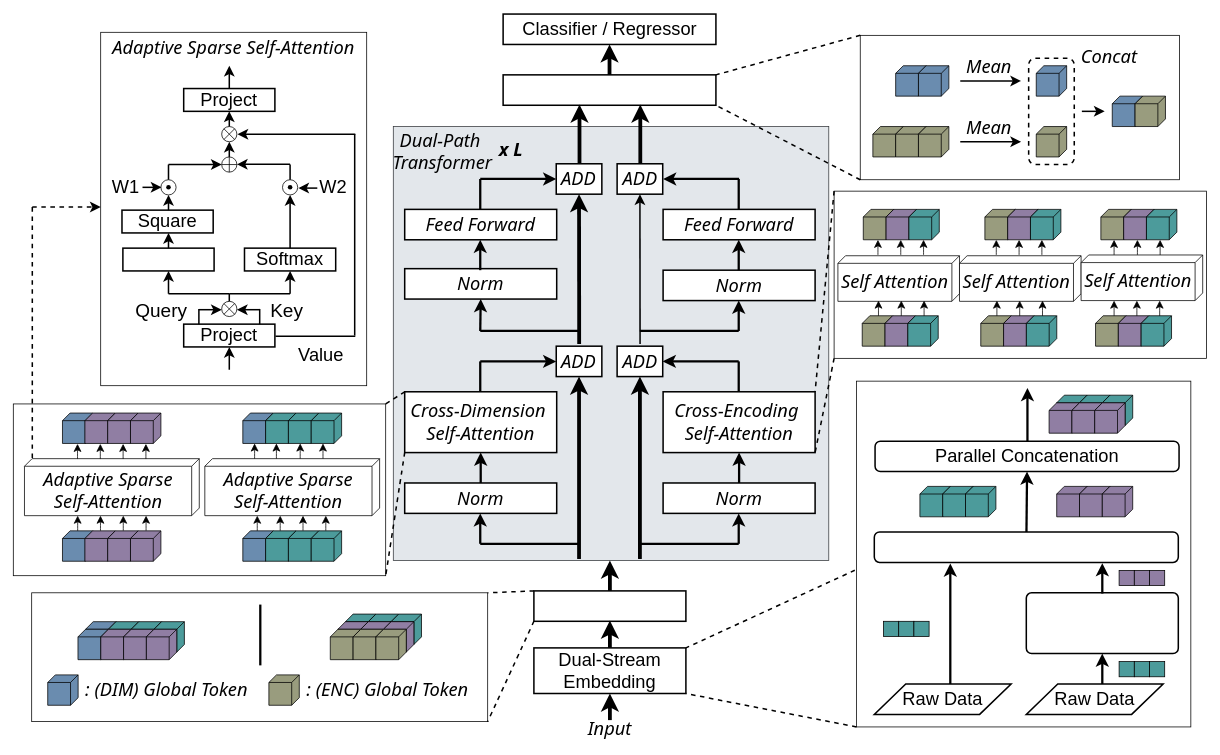
The diagram is 1220 pixels wide and 755 high, and some of its shapes have lost their labels. The centre of each missing label's shape, as x and y in pixels:
"Feature Tokenization" goes at [1026,547].
"ReLu" goes at [168,259].
"Target Aware Preprocessing" goes at [1102,623].
"Token Aggregation" goes at [609,90].
"Token Extension" goes at [609,606].
